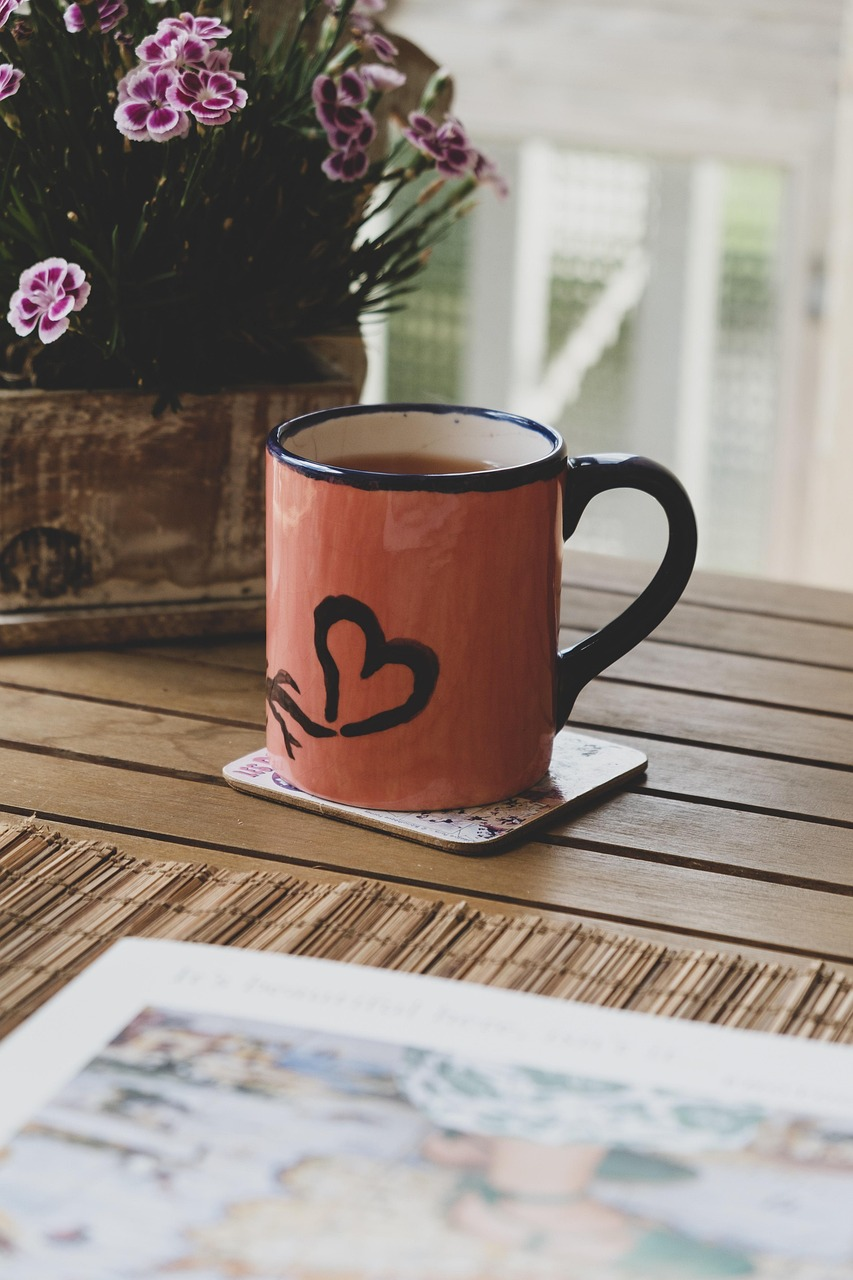mug: (199, 395, 730, 825)
